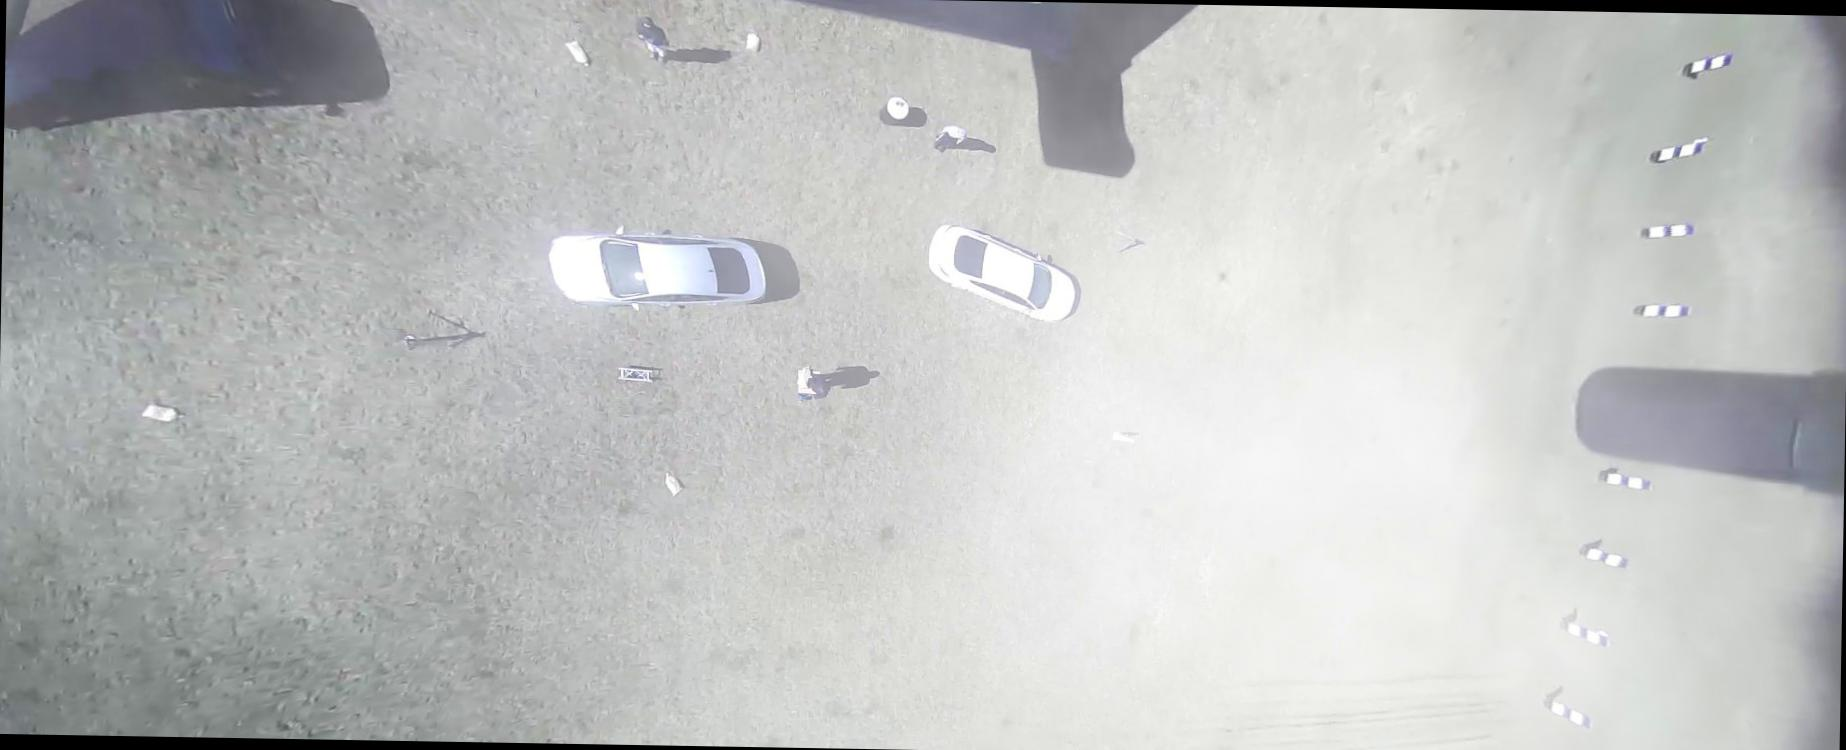vehicle: (4, 0, 319, 137), (545, 223, 769, 313), (927, 223, 1080, 324)
